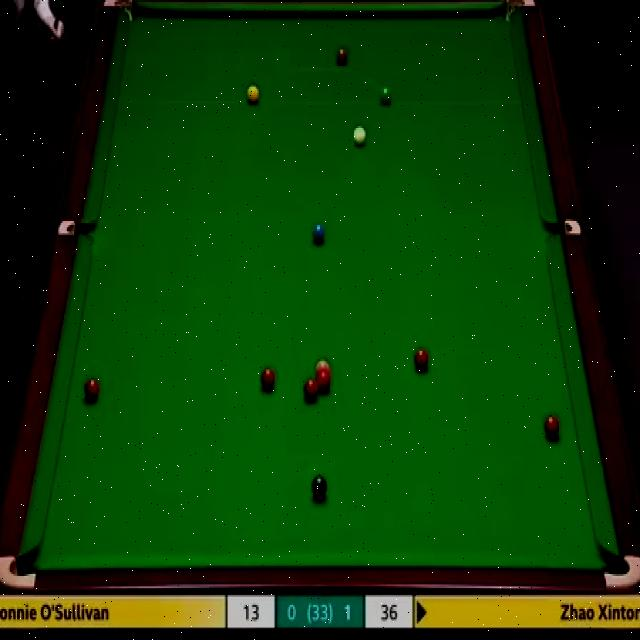black-ball: (311, 472, 328, 500)
blue-ball: (312, 221, 326, 244)
brown-ball: (335, 46, 348, 67)
green-ball: (378, 84, 392, 105)
pink-ball: (315, 359, 331, 374)
red-ball: (84, 375, 100, 403), (544, 416, 561, 439), (314, 371, 332, 392), (414, 347, 428, 372), (260, 368, 275, 390), (303, 380, 319, 400)
white-ball: (351, 123, 369, 148)
yellow-ball: (246, 83, 260, 104)
